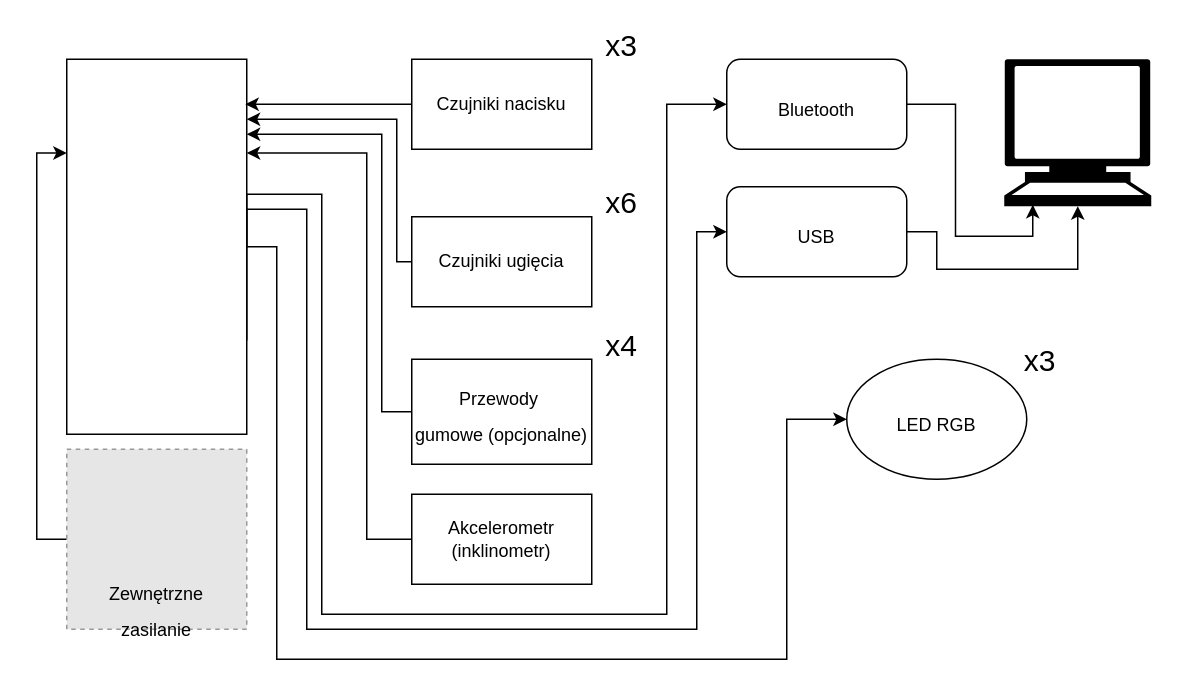
The diagram is 1178 pixels wide and 698 high, and some of its shapes have lost their labels. Grey dashed boxes stand in for pictures. Here are the shapes that lost their labels. From the top down, the box of each, then its label:
(1004, 58, 1150, 206): PC
(65, 58, 247, 434): STM32F3 Discovery
